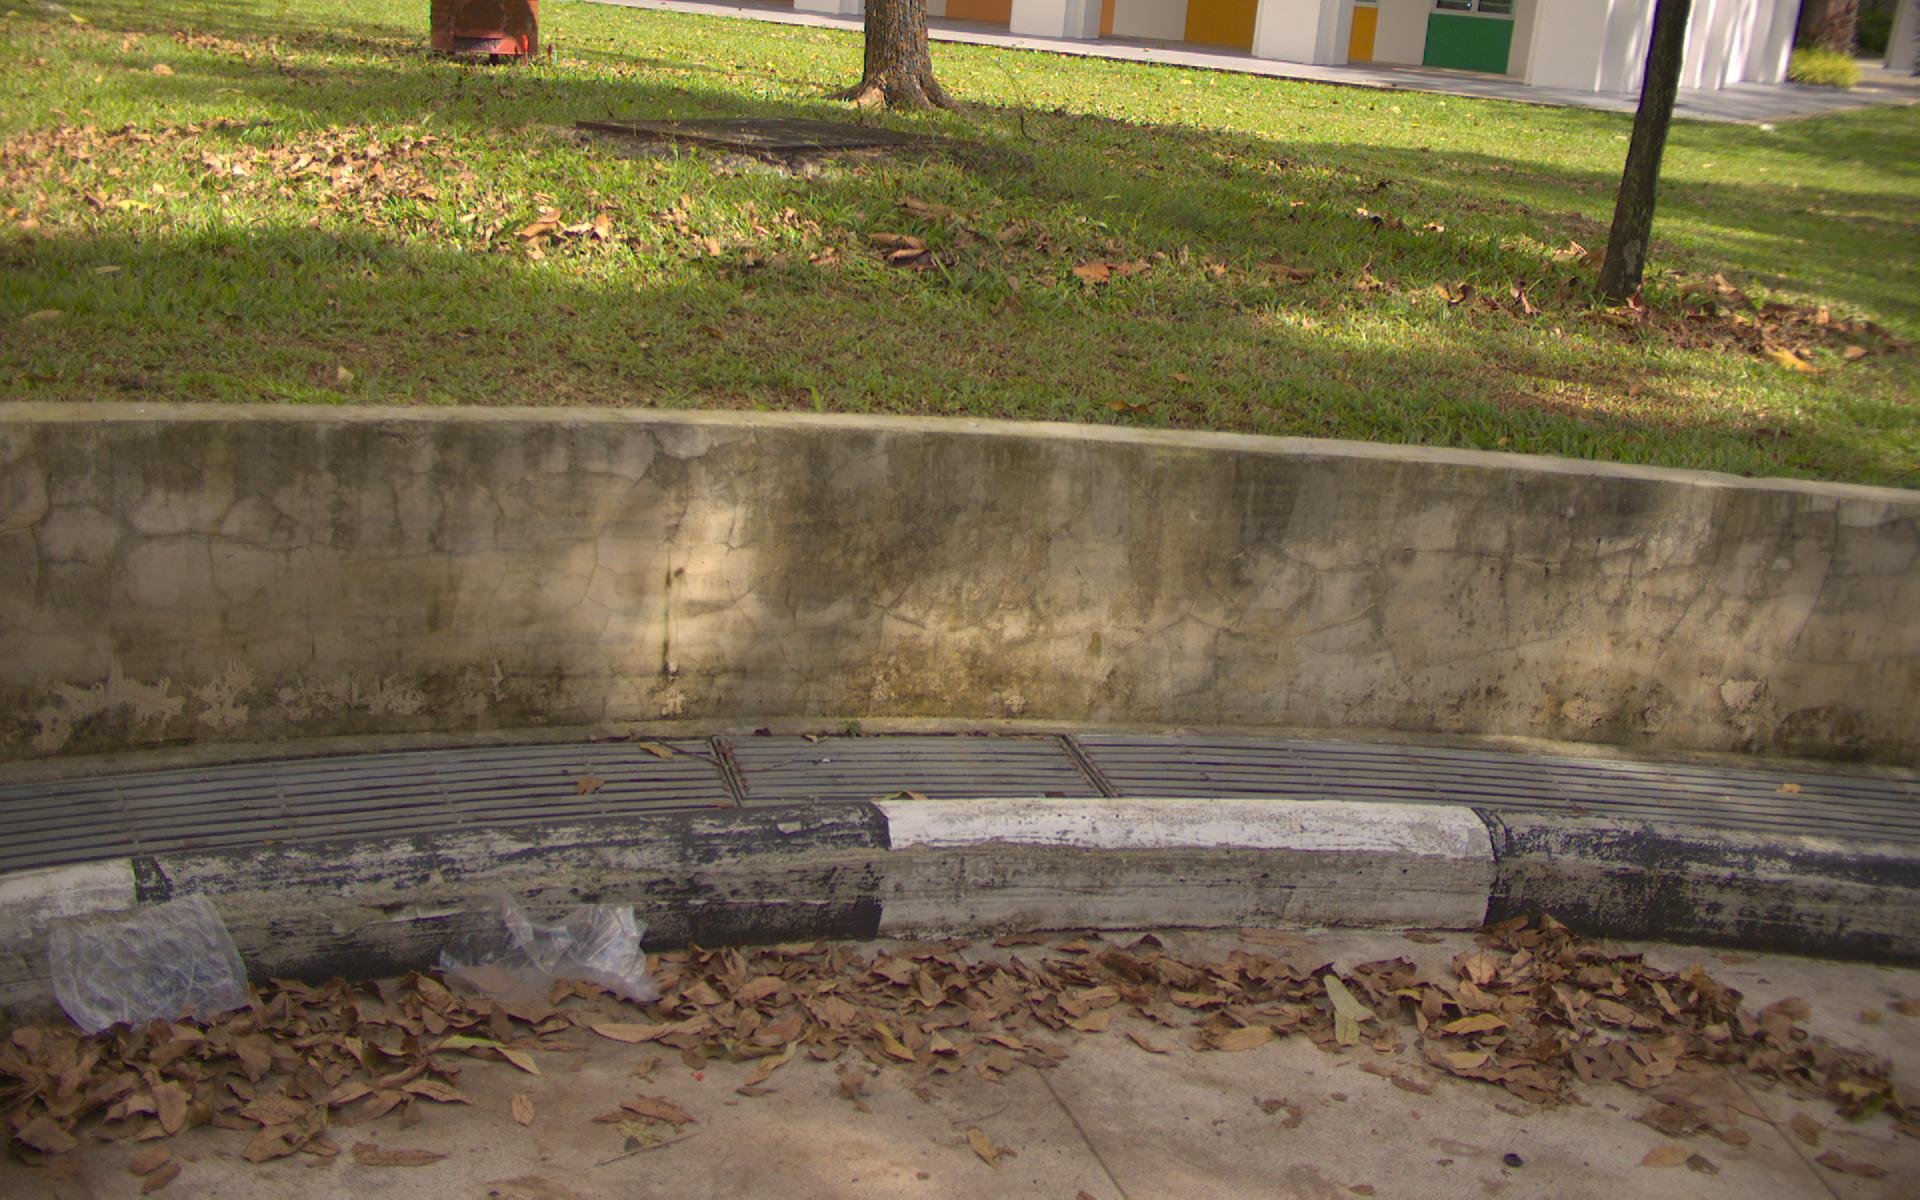curb_grill_low: (0, 733, 1908, 864)
road_curb_medium: (7, 924, 1913, 1188)
road_turf_low: (15, 26, 1908, 470)
